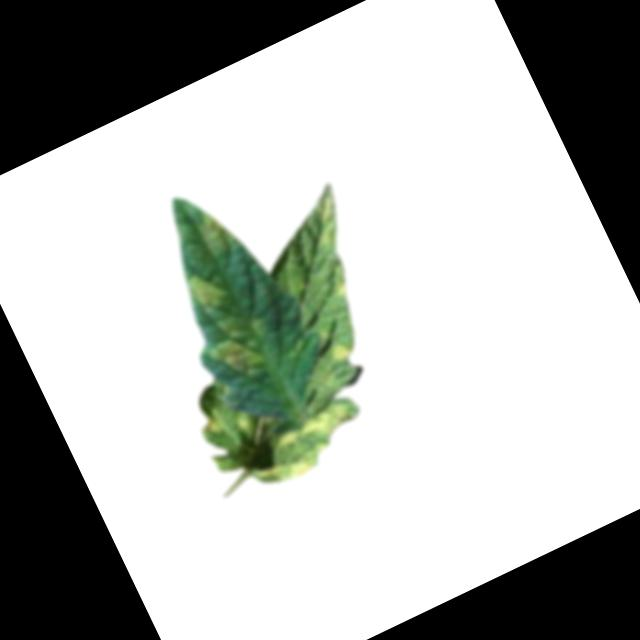Leaf_Mold: (245, 396, 368, 493), (209, 323, 277, 392), (180, 261, 235, 321), (192, 203, 241, 260), (323, 334, 355, 369)
